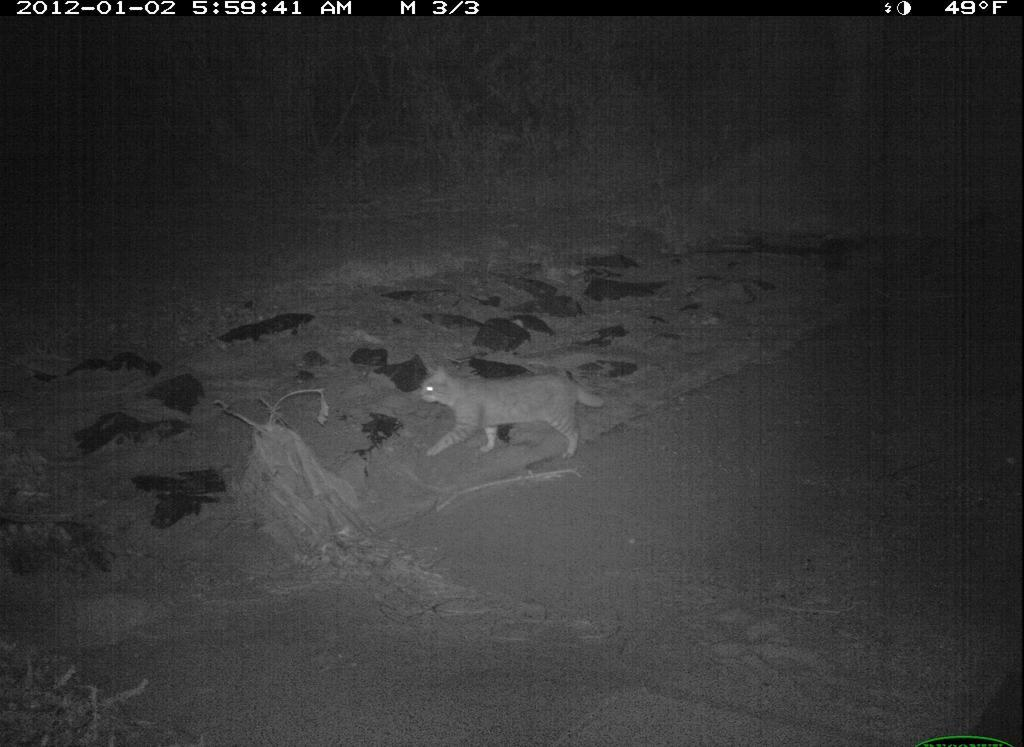cat: (409, 363, 610, 468)
